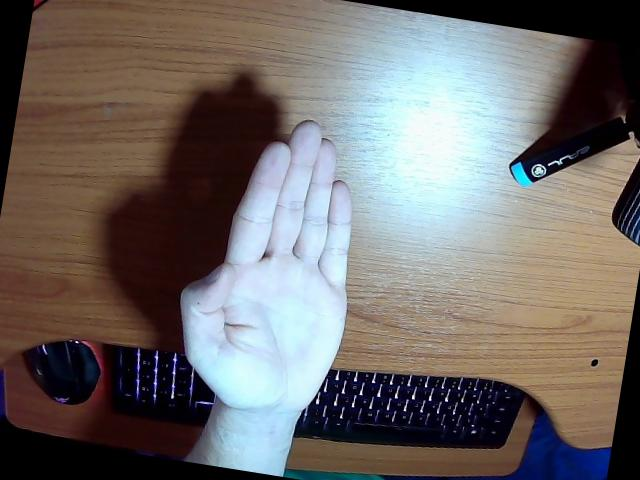paper: (181, 122, 351, 475)
